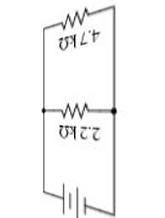resistor: (54, 2, 94, 29), (55, 97, 94, 121)
